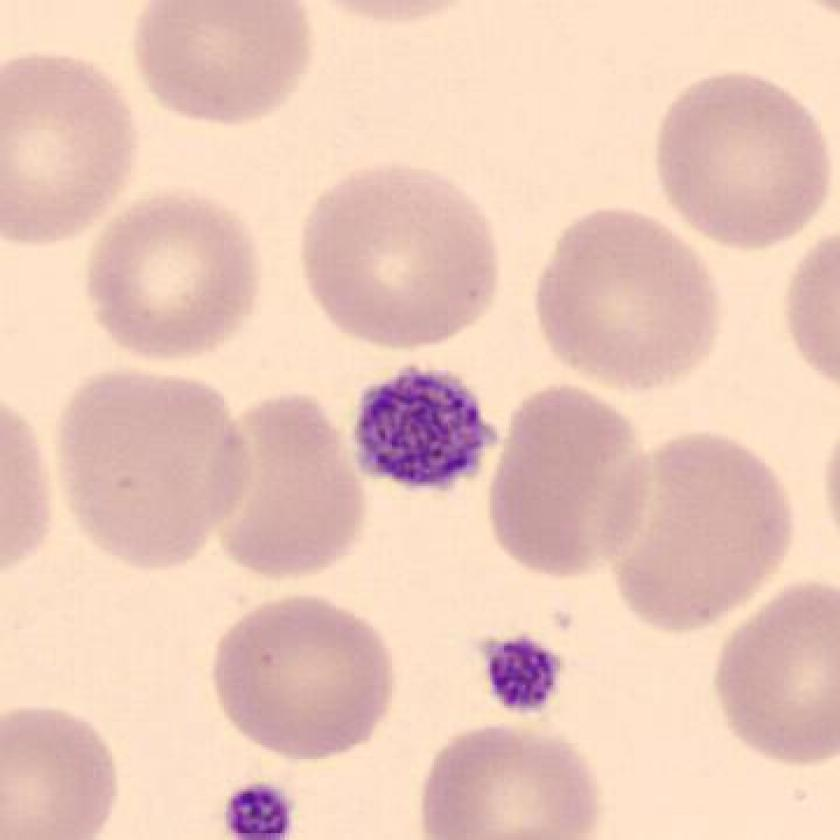platelets: (347, 355, 501, 506), (477, 626, 570, 721), (220, 771, 301, 840)
